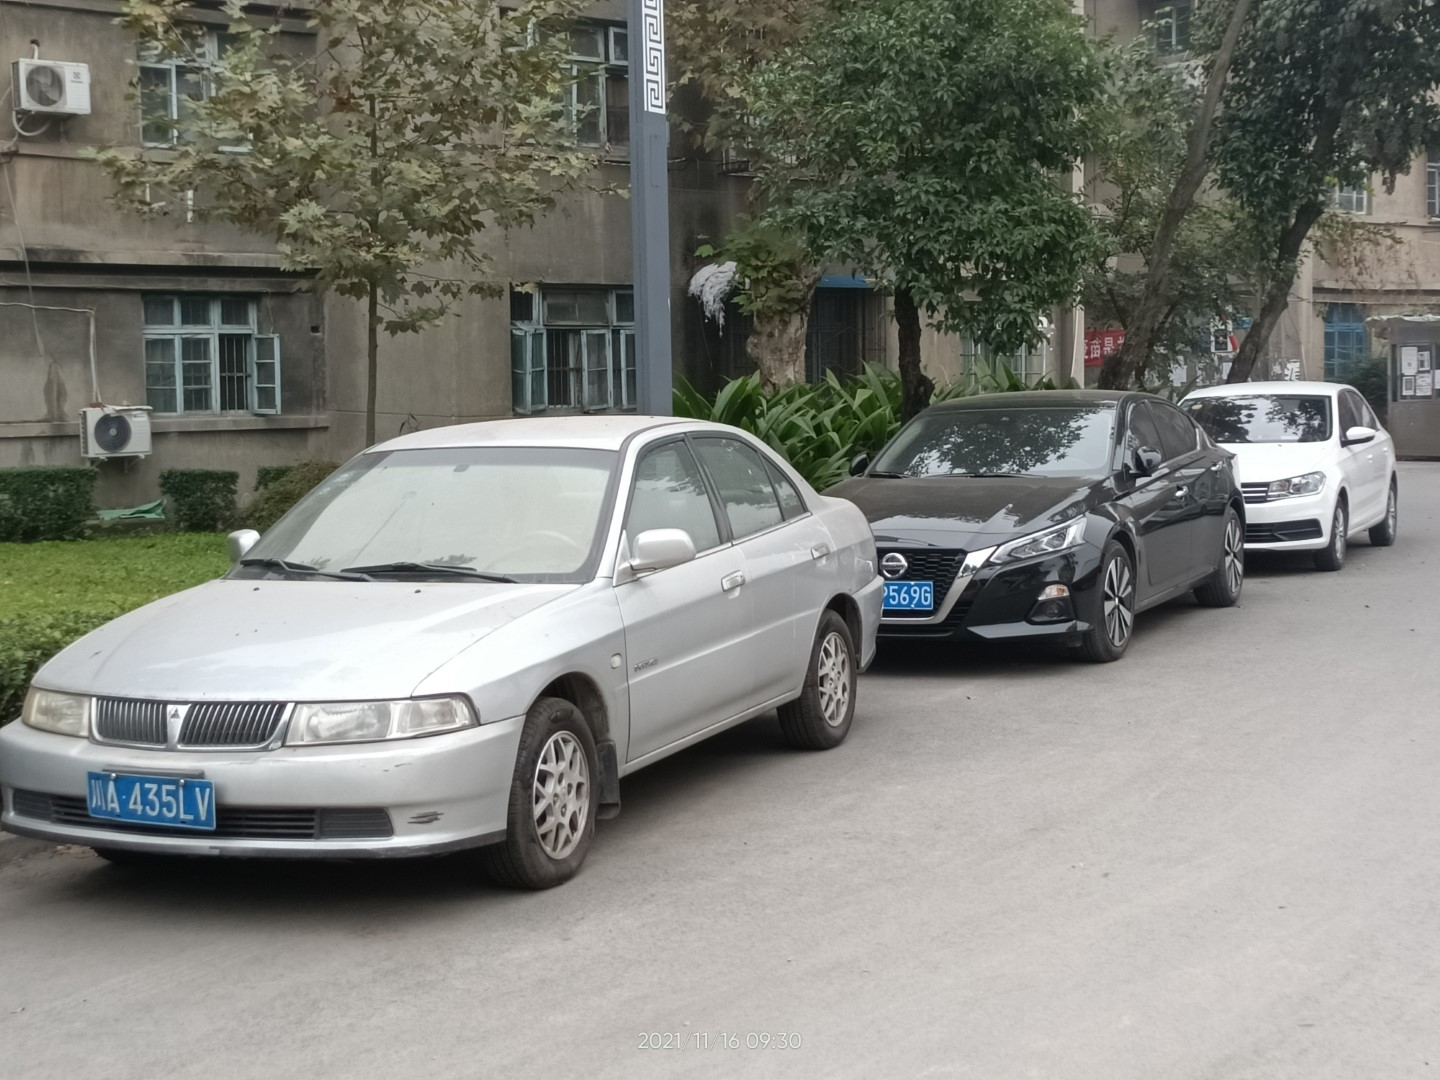plate: (84, 771, 215, 832)
